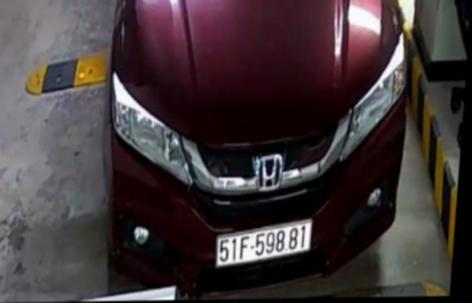License_Plate: (211, 220, 318, 270)
